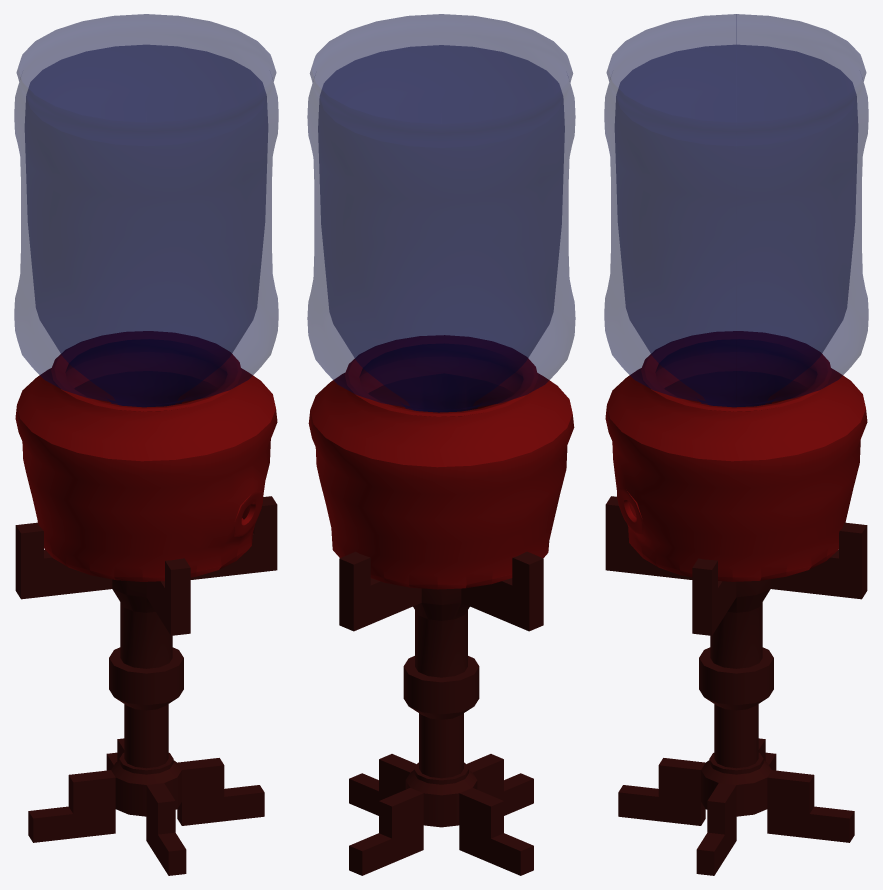
The model's file is waterbucket.fbx.
3 views of the same model, side by side, from view 1: azimuth 30°, elevation 25°; view 2: azimuth 150°, elevation 25°; view 3: azimuth 270°, elevation 25° (orthographic).
Visible parts, largest first — view 1: Mesh; view 2: Mesh; view 3: Mesh.
Boxes of the visible parts, x1,y1,x2,y2 form: Mesh: (14,14,278,875); Mesh: (307,14,575,875); Mesh: (604,14,868,875).
Size of the model in its own units: 364 by 1156 by 364.
